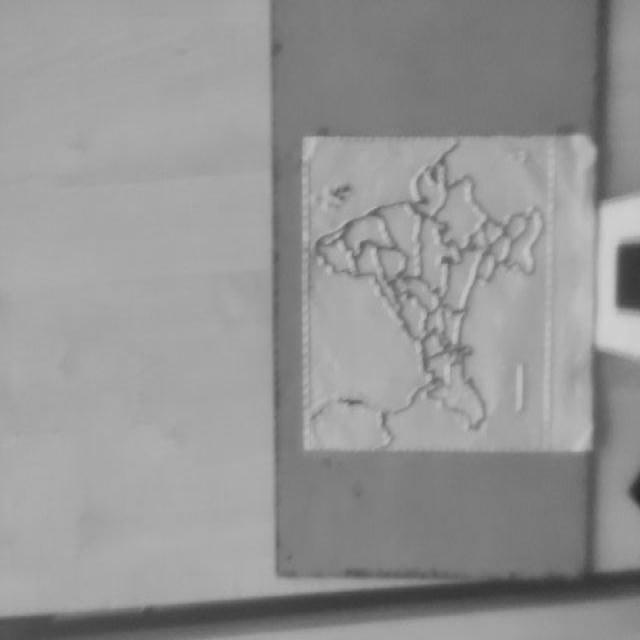map: (301, 134, 553, 452)
